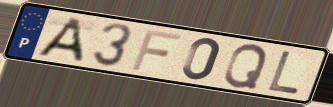0: (180, 37, 222, 82)
3: (91, 22, 134, 69)
A: (33, 16, 84, 64)
F: (129, 28, 184, 72)
L: (265, 49, 303, 97)
Q: (222, 43, 270, 91)
